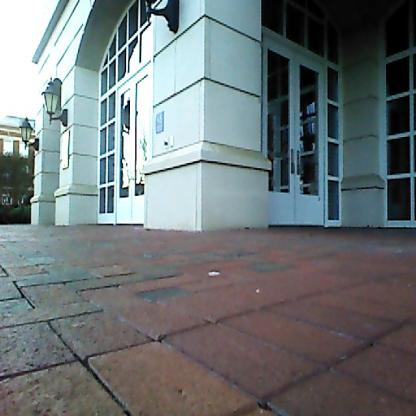Sidewalk: (0, 224, 416, 416)
